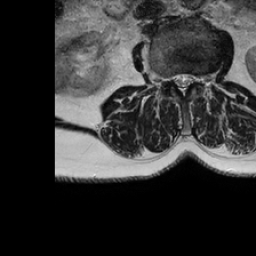CCS_normal: (179, 67, 186, 100)
LFS_normal: (194, 65, 204, 90)
LLS_normal: (186, 66, 194, 91)
RFS_stenosis: (163, 66, 171, 90)
RLS_normal: (171, 67, 179, 91)
